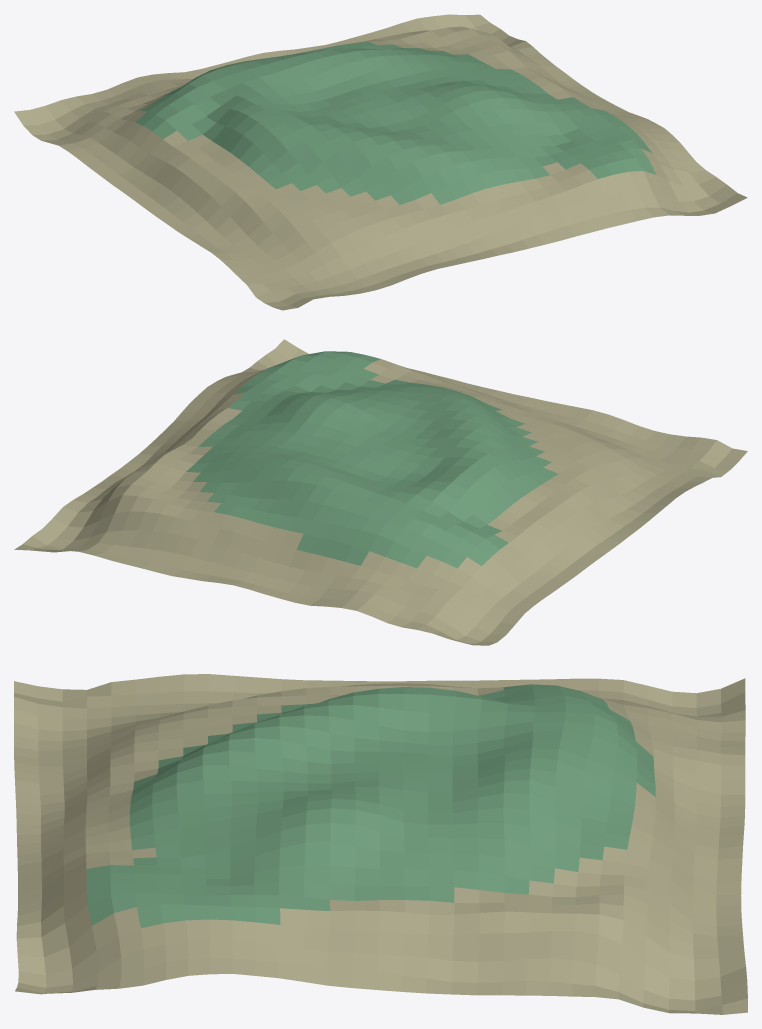
File: Island.fbx
3 renders of one model, top to bottom at view 1: azimuth 30°, elevation 25°; view 2: azimuth 150°, elevation 25°; view 3: azimuth 270°, elevation 25°, orthographic. The views are drawn at different scales.
Parts seen in each view (by area): view 1: Island; view 2: Island; view 3: Island.
Boxes of the visible parts, x1,y1,x2,y2 form: Island: (14,14,747,310); Island: (14,339,747,645); Island: (14,674,747,1014).
Size of the model in its own units: 40.21 by 6.55 by 40.14.
